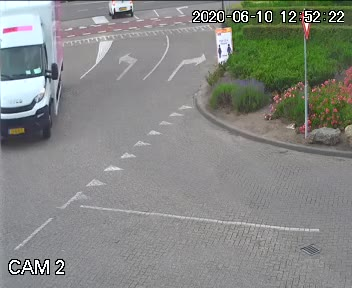car: (0, 0, 76, 154), (104, 0, 134, 19)
